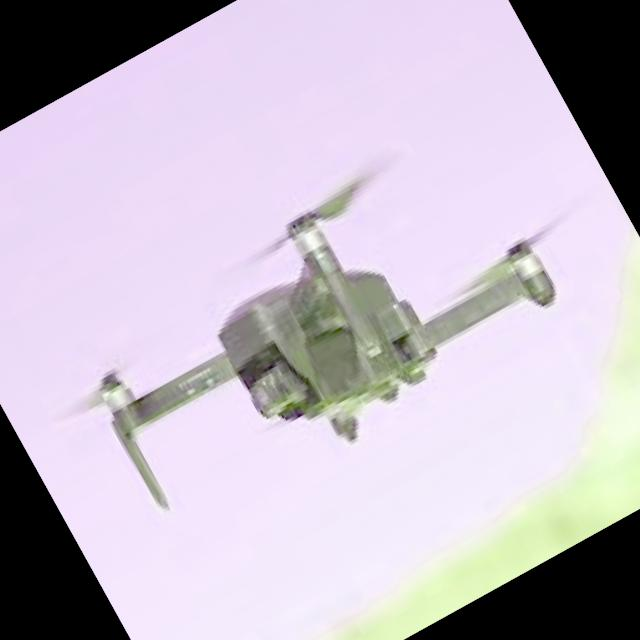drone: (17, 69, 640, 587)
